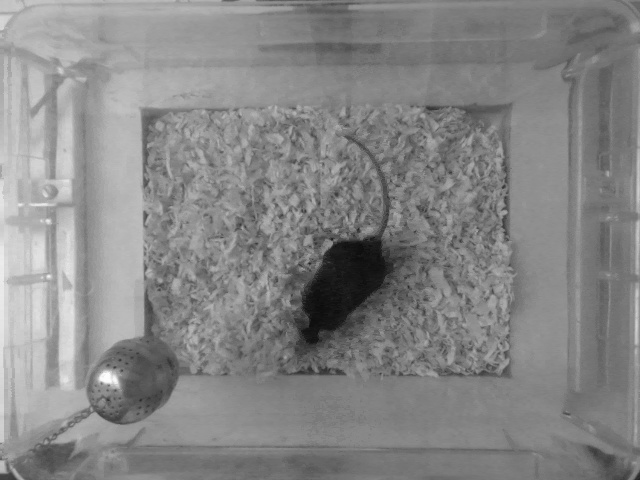mice: (292, 134, 396, 347)
